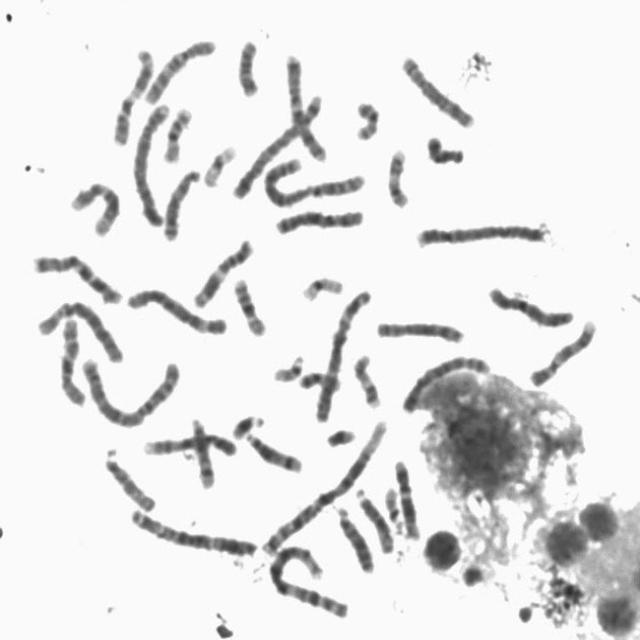A1: (255, 411, 391, 559), (263, 536, 352, 621)
A2: (75, 349, 183, 429), (257, 149, 367, 208)
A3: (309, 282, 374, 425), (122, 501, 258, 560)
B4: (127, 96, 172, 228), (409, 215, 548, 249)
B5: (226, 86, 326, 200), (396, 354, 494, 424)
C10: (138, 31, 218, 106), (53, 311, 87, 408)
C11: (187, 231, 256, 309), (106, 41, 156, 148)
C12: (63, 174, 122, 238), (388, 454, 422, 542)
C6: (30, 292, 126, 364), (122, 281, 230, 337)
C7: (280, 45, 330, 163), (26, 247, 124, 306)
C8: (395, 48, 477, 129), (370, 312, 467, 346)
C9: (522, 312, 598, 389), (138, 427, 239, 458)
D13: (156, 162, 202, 243), (331, 500, 376, 575)
D14: (238, 425, 304, 475), (185, 411, 217, 491)
D15: (98, 442, 158, 514), (350, 481, 396, 554)
E16: (227, 271, 269, 338), (158, 100, 194, 164)
E17: (348, 347, 383, 410), (381, 141, 411, 210)
E18: (230, 32, 262, 98), (419, 128, 467, 166)
F19: (197, 138, 239, 188), (296, 268, 346, 303)
F20: (349, 93, 382, 142), (292, 364, 344, 393)
G21: (225, 407, 266, 441), (320, 421, 358, 449)
G22: (379, 479, 406, 534), (267, 348, 306, 383)
X: (481, 280, 576, 328), (268, 202, 366, 236)
